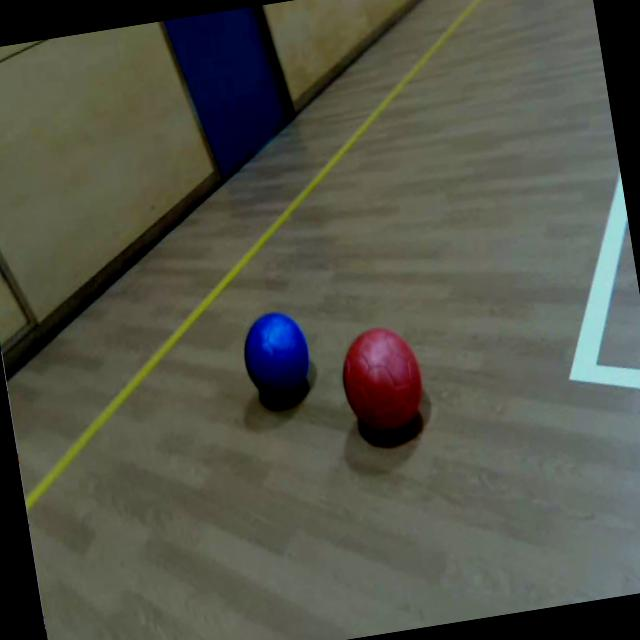blue_ball: (238, 307, 316, 402)
red_ball: (337, 323, 428, 440)
